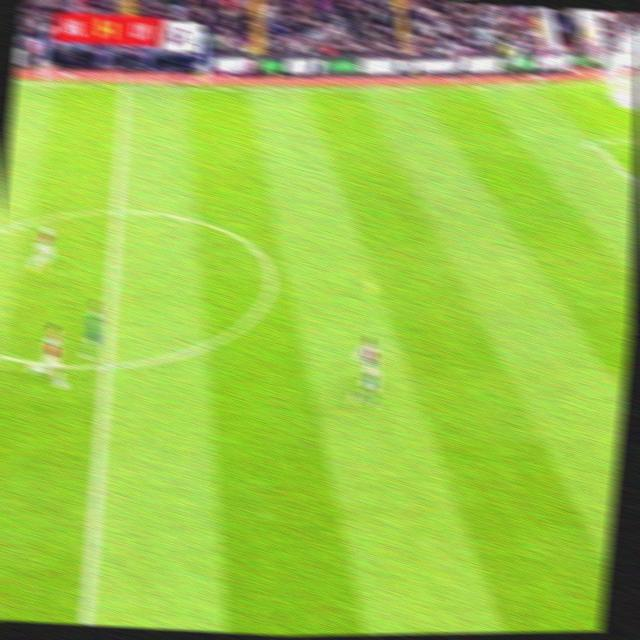bigarea_top_inner: (581, 129, 602, 153)
halfcircle_bottom: (88, 344, 118, 382)
halfcircle_top: (99, 193, 130, 228)
midline_top_intersection: (114, 73, 135, 98)
